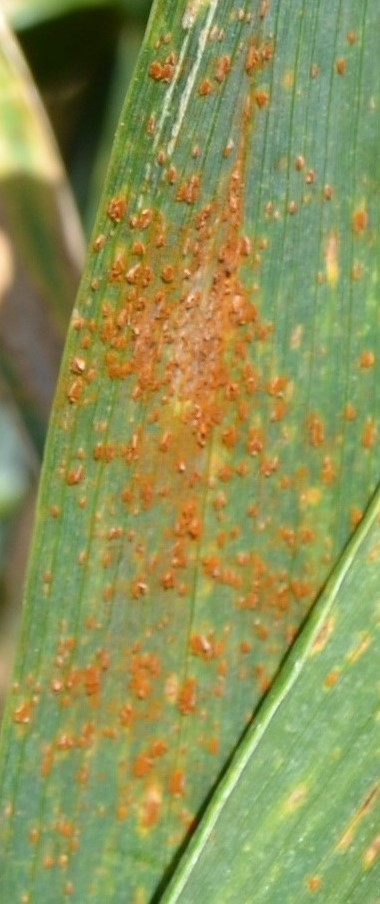Leaf Rust: (39, 127, 338, 861)
